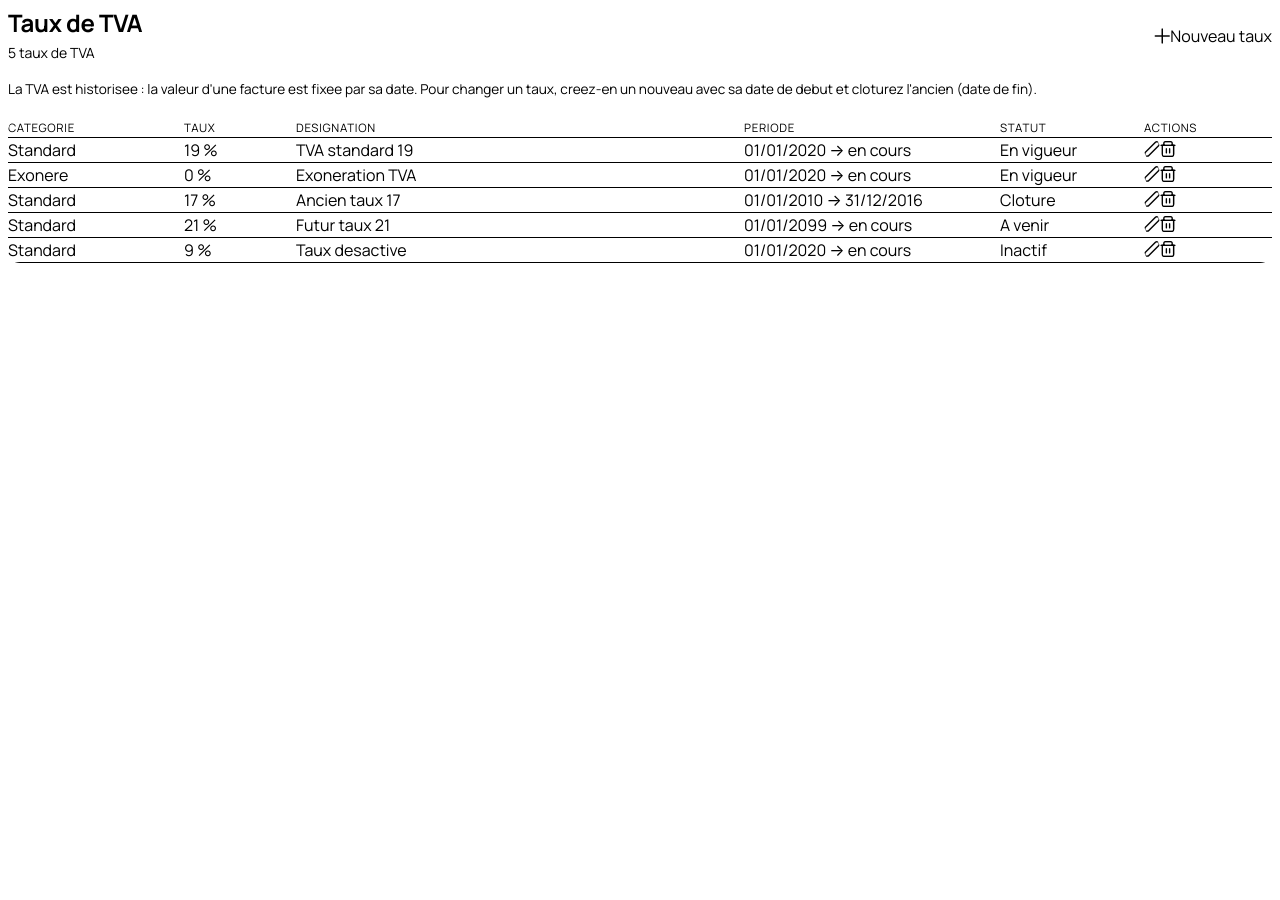
TvaTauxPage — creation › le libelle de la categorie standard suit le taux saisi (et retombe a 0 si vide)
Click the button "Nouveau taux".
click(1213, 36)  # box [1154, 24, 1272, 46]
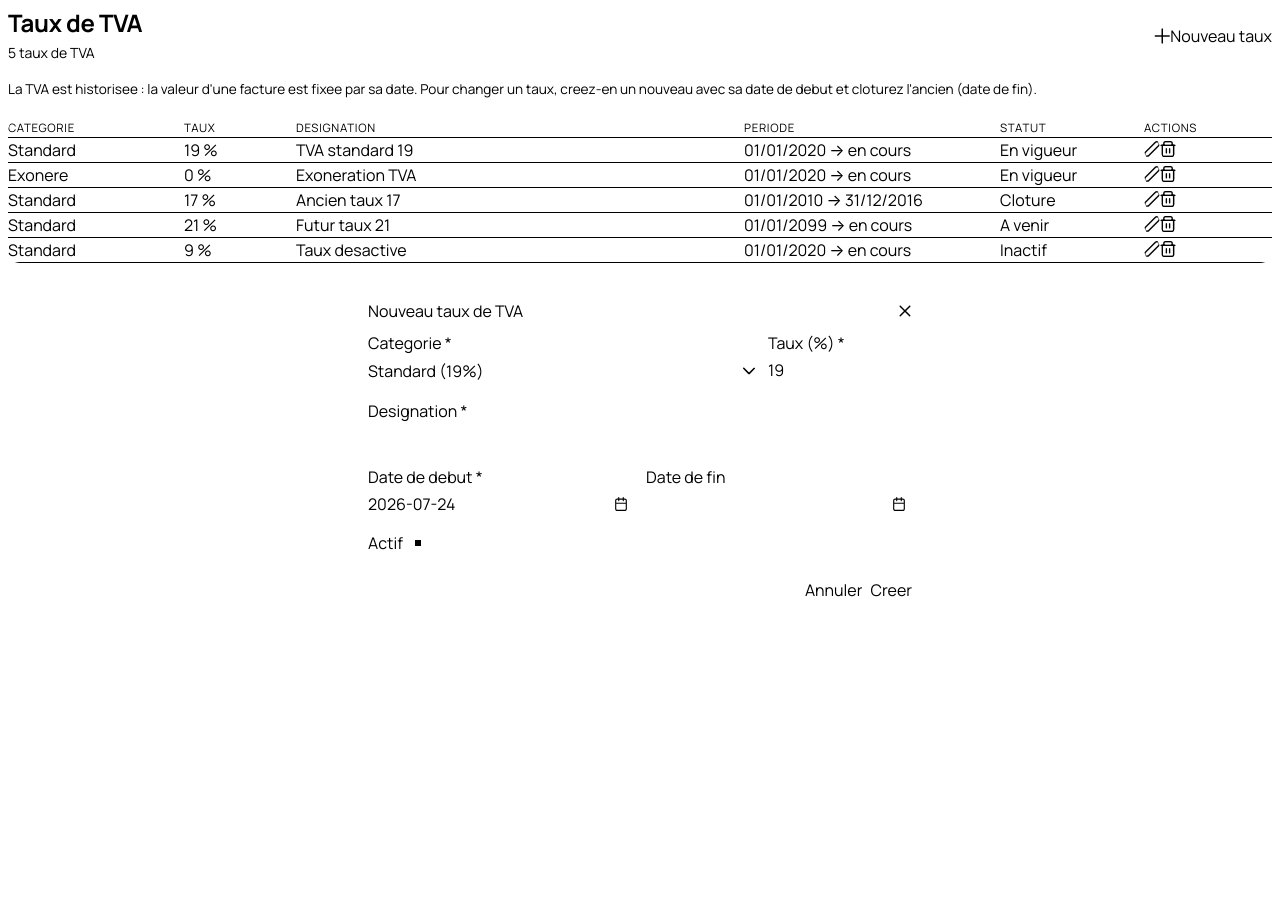
Expected: the dropdown labelled "Standard (19%)" is shown, [368, 360, 484, 382]
